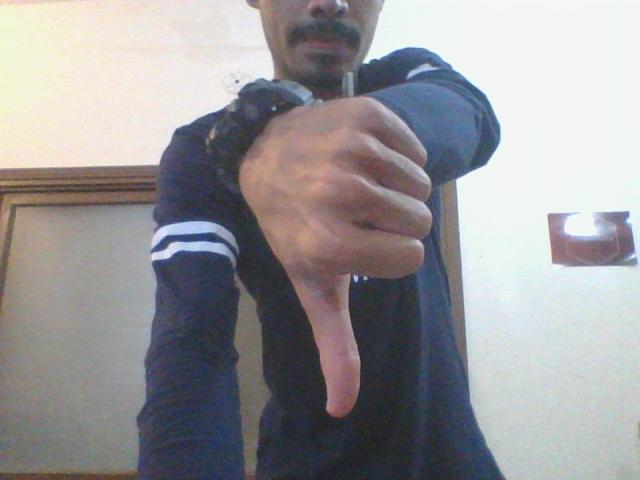thumbs-down: (259, 100, 440, 421)
